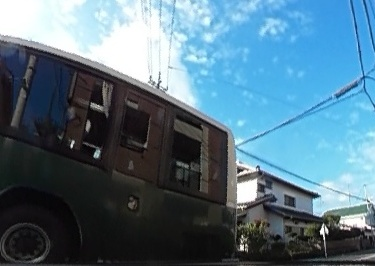person: (372, 97, 375, 266)
